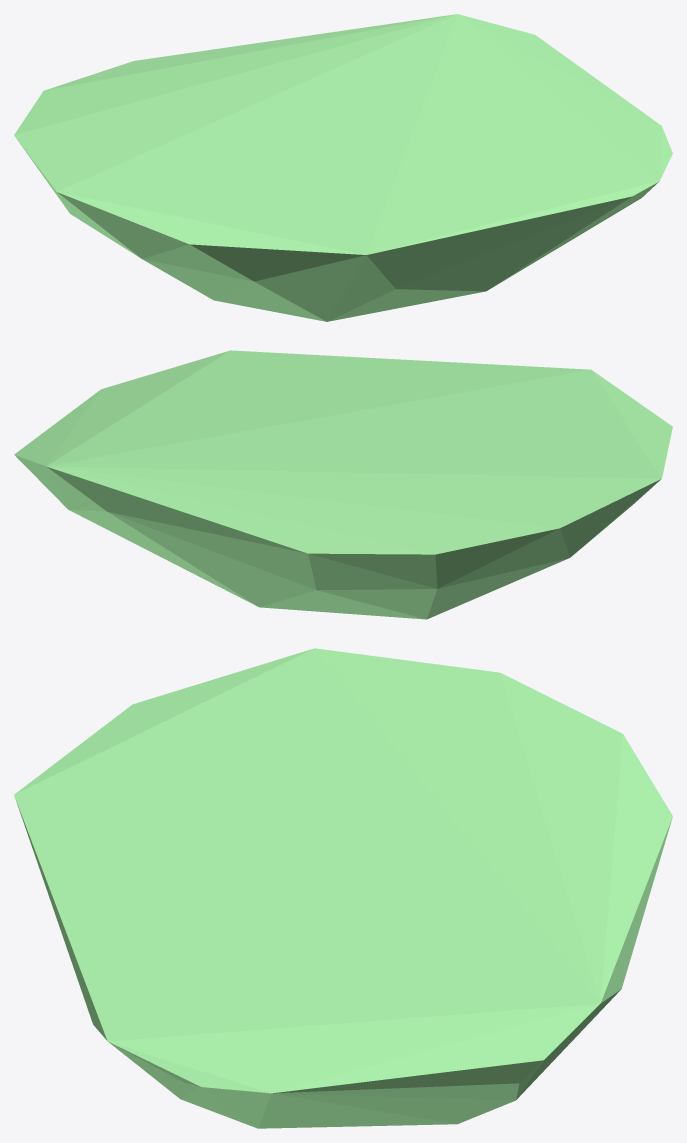
File: exported_panda_link7_resp_coll_1.dae
The picture shows the model from 3 angles, top to bottom: view 1: azimuth 30°, elevation 25°; view 2: azimuth 150°, elevation 25°; view 3: azimuth 270°, elevation 25°; orthographic projection. The views are drawn at different scales.
Parts seen in each view (by area): view 1: node; view 2: node; view 3: node.
Boxes of the visible parts, left/top/right/bottom form: node: left=14, top=14, right=672, bottom=321; node: left=14, top=350, right=672, bottom=619; node: left=14, top=648, right=672, bottom=1128.
Size of the model in its own units: 0.1155 by 0.0282 by 0.0886.
